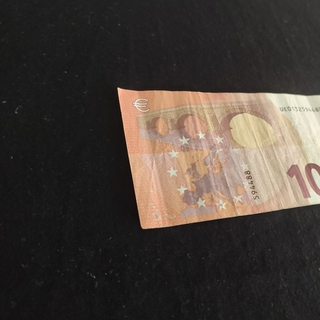10EUROBack: (116, 85, 320, 229)
